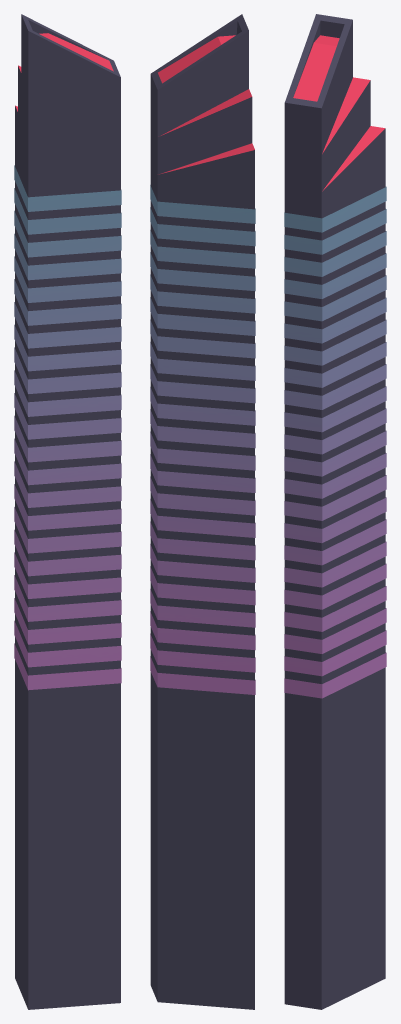
File: CbpBuild G.fbx
3 views of the same model, side by side, from view 1: azimuth 30°, elevation 25°; view 2: azimuth 210°, elevation 25°; view 3: azimuth 270°, elevation 25° (orthographic). The views are drawn at different scales.
Visible parts, largest first — view 1: CbpBuild G; view 2: CbpBuild G; view 3: CbpBuild G.
Boxes of the visible parts, x1,y1,x2,y2 form: CbpBuild G: [14, 14, 121, 1009]; CbpBuild G: [150, 14, 255, 1009]; CbpBuild G: [284, 14, 386, 1009].
Size of the model in its own units: 12.47 by 131 by 12.71.
